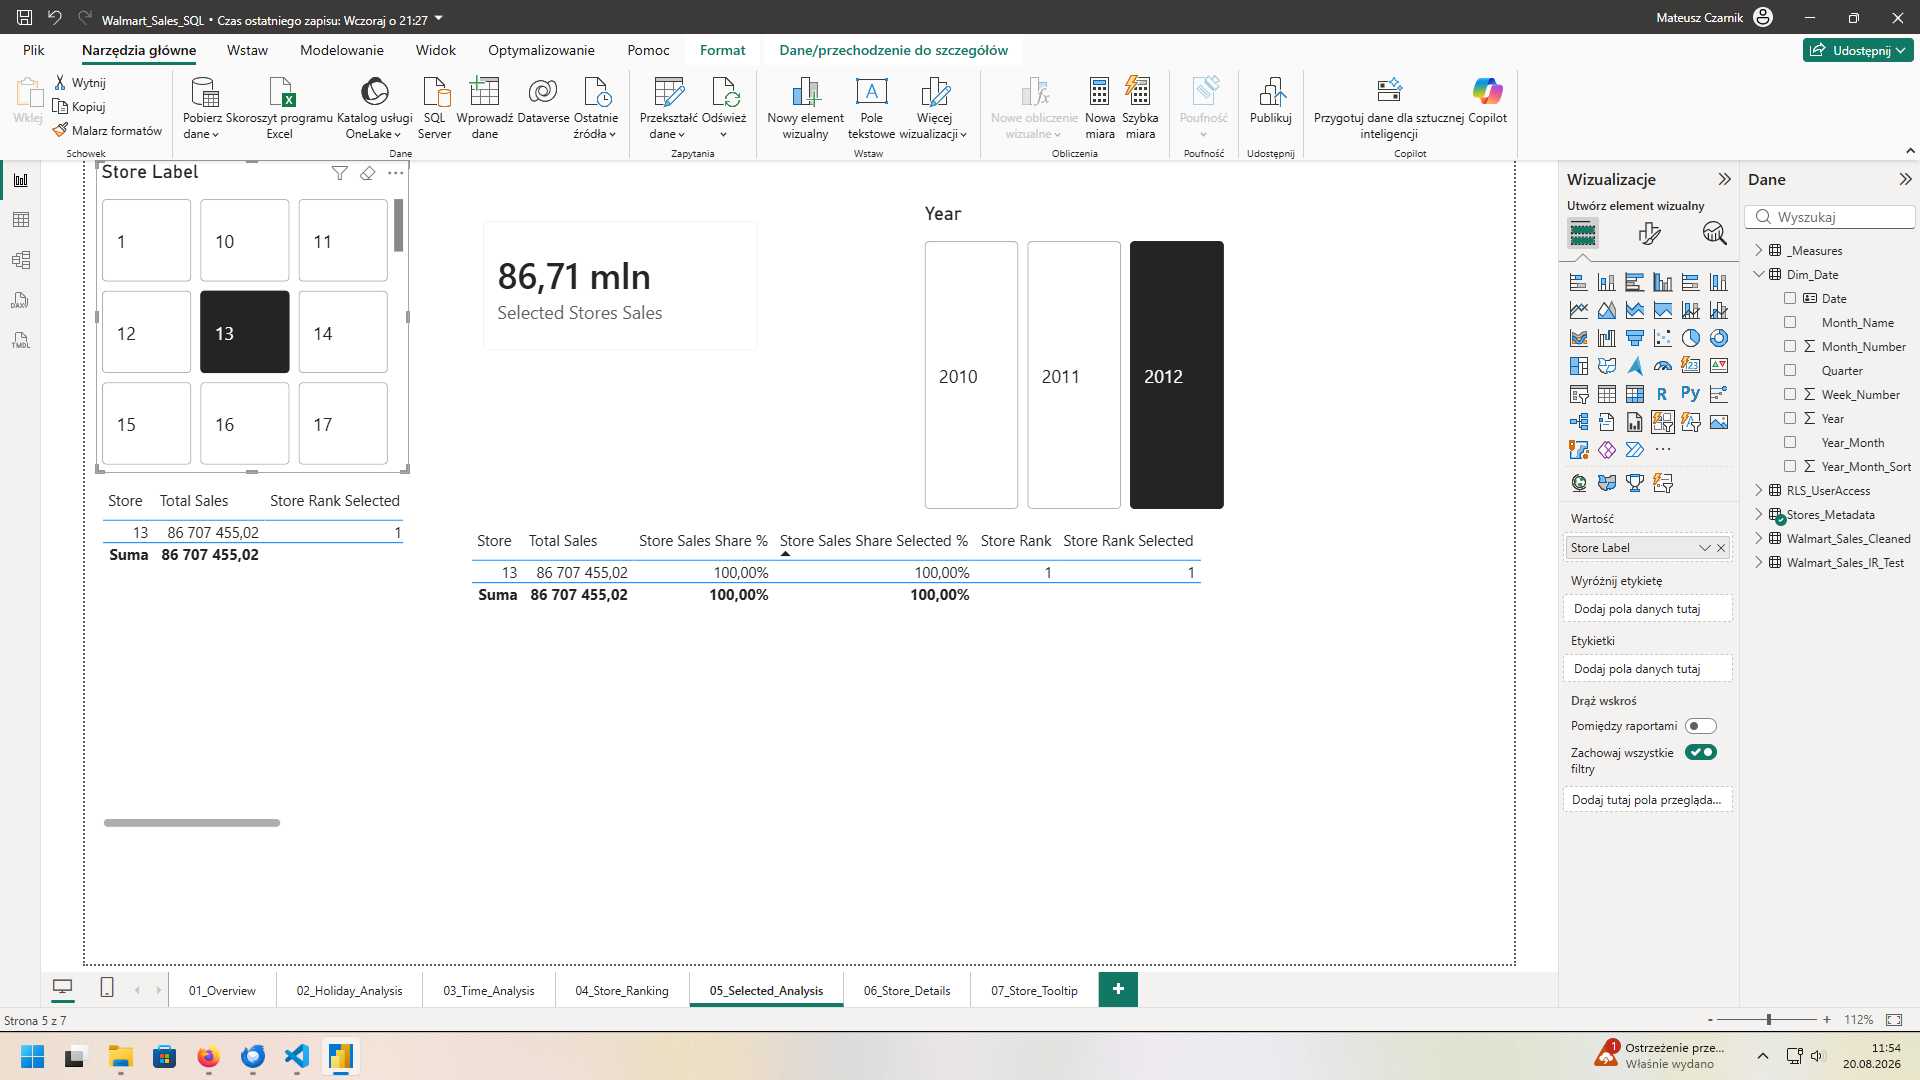

This screenshot's page, from the dashboard's own definition file:
{"tool":"powerbi","page":{"name":"05_Selected_Analysis","canvas":[1280,720],"ordinal":4},"visuals":[{"type":"advancedSlicerVisual","fields":{"Values":["Stores_Metadata.Store Label"]},"box":[10,0,280,280],"z":0},{"type":"tableEx","fields":{"Values":["Stores_Metadata.Store","_Measures.Total Sales","_Measures.Store Rank Selected","_Measures.Store Sales Share Selected %"]},"box":[9.7,289.8,280.1,313.2],"z":1000},{"type":"cardVisual","fields":{"Data":["_Measures.Selected Stores Sales"]},"box":[339.5,37.9,280,150],"z":2000},{"type":"advancedSlicerVisual","fields":{"Values":["Dim_Date.Year"]},"box":[746.7,37.8,280,280],"z":3000},{"type":"tableEx","fields":{"Values":["Stores_Metadata.Store","_Measures.Total Sales","_Measures.Store Sales Share %","_Measures.Store Sales Share Selected %","_Measures.Store Rank","_Measures.Store Rank Selected"]},"box":[340,325.6,772.2,394.4],"z":4000}]}

Visuals, with their boxes on the page's 1280x720 design canvas (x1, y1, x2, y2). These are canvas units, not pixel positions in the 1920x1080 screenshot, which may show the page scaled, cropped or inside an application window:
advancedSlicerVisual - Stores_Metadata.Store Label: detection(10, 0, 290, 280)
tableEx - Stores_Metadata.Store x _Measures.Total Sales: detection(10, 290, 290, 603)
cardVisual - _Measures.Selected Stores Sales: detection(340, 38, 620, 188)
advancedSlicerVisual - Dim_Date.Year: detection(747, 38, 1027, 318)
tableEx - Stores_Metadata.Store x _Measures.Total Sales: detection(340, 326, 1112, 720)
